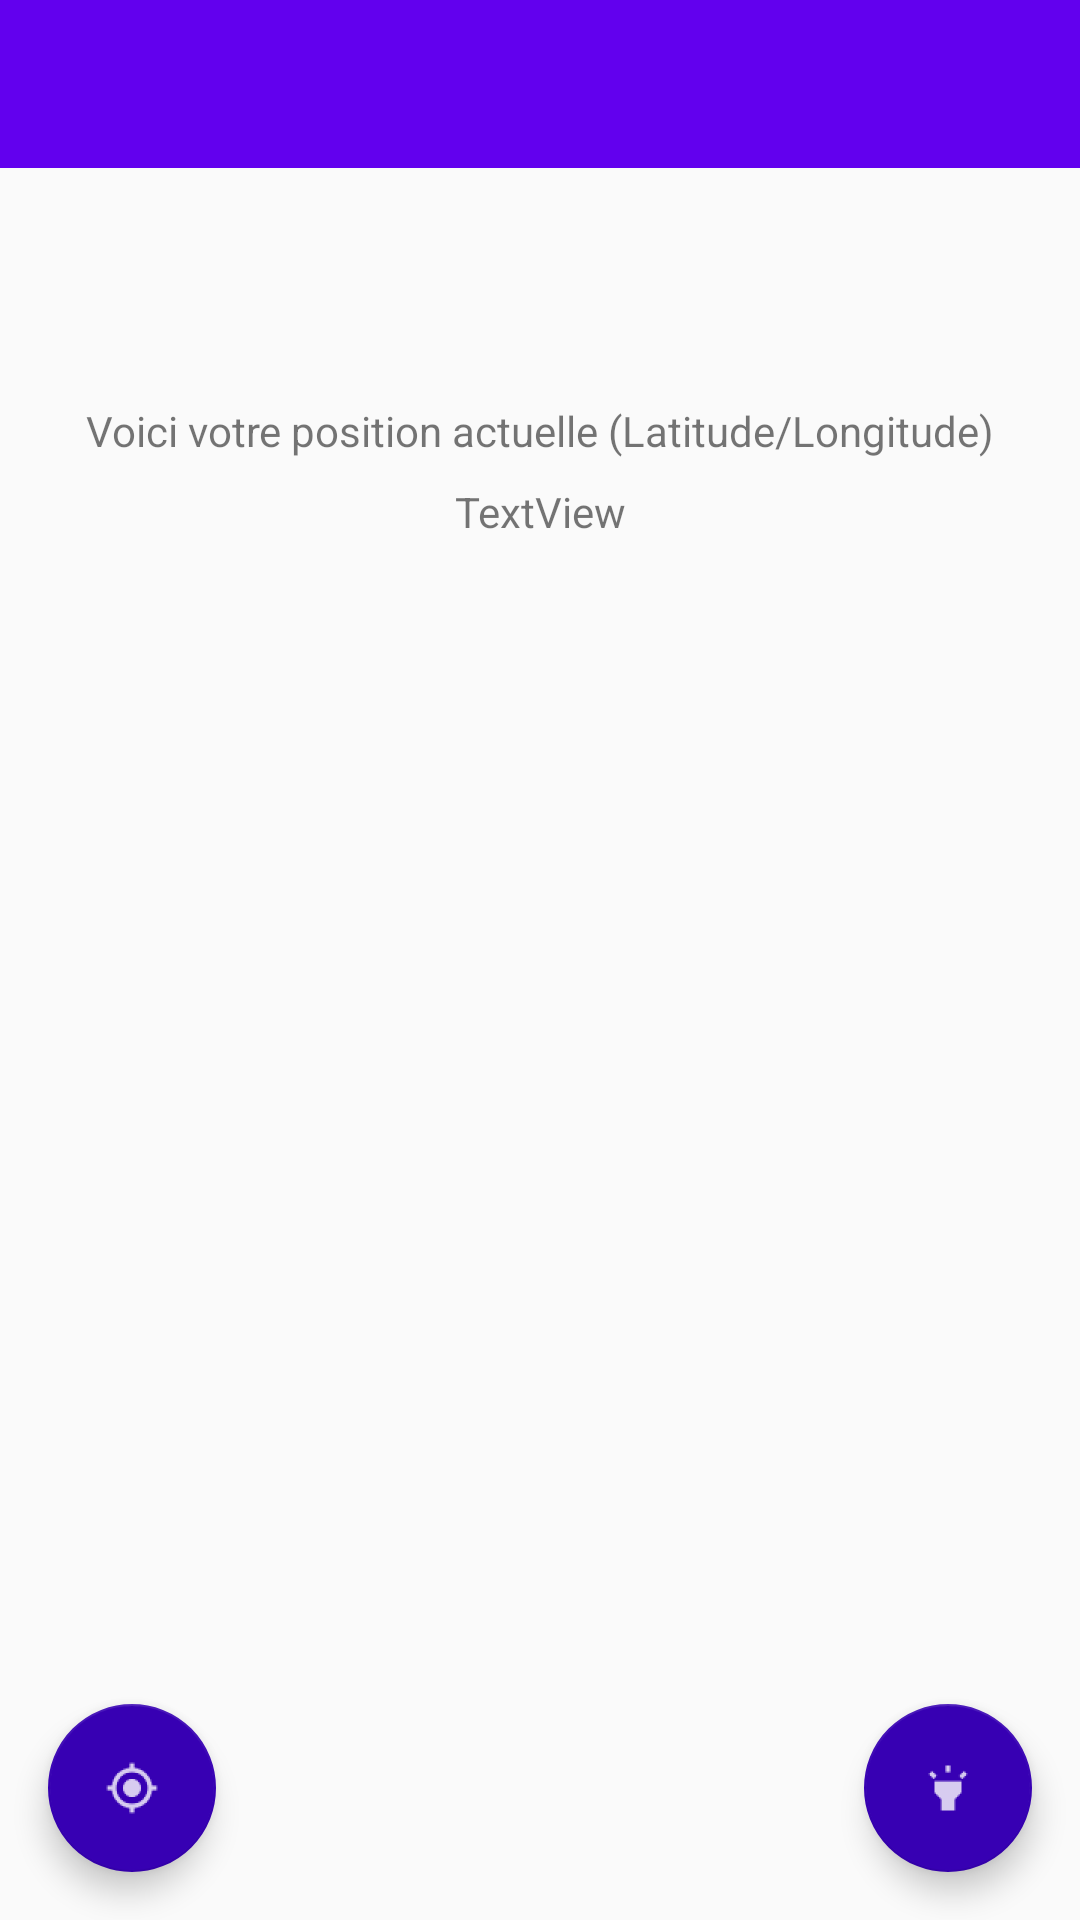

Screen size 1080px x 1920px. Icon name, then its center in pixels as point (x, y):
lifi: point (948, 1788)
location: point (132, 1788)
